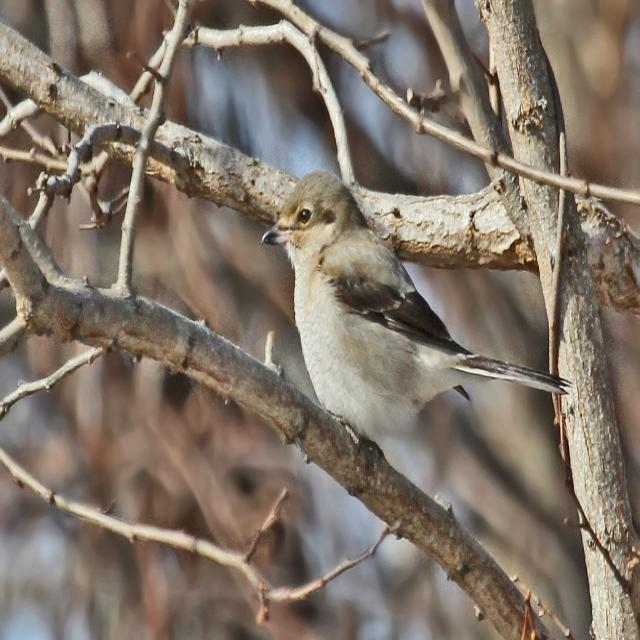bird: (259, 163, 567, 446)
